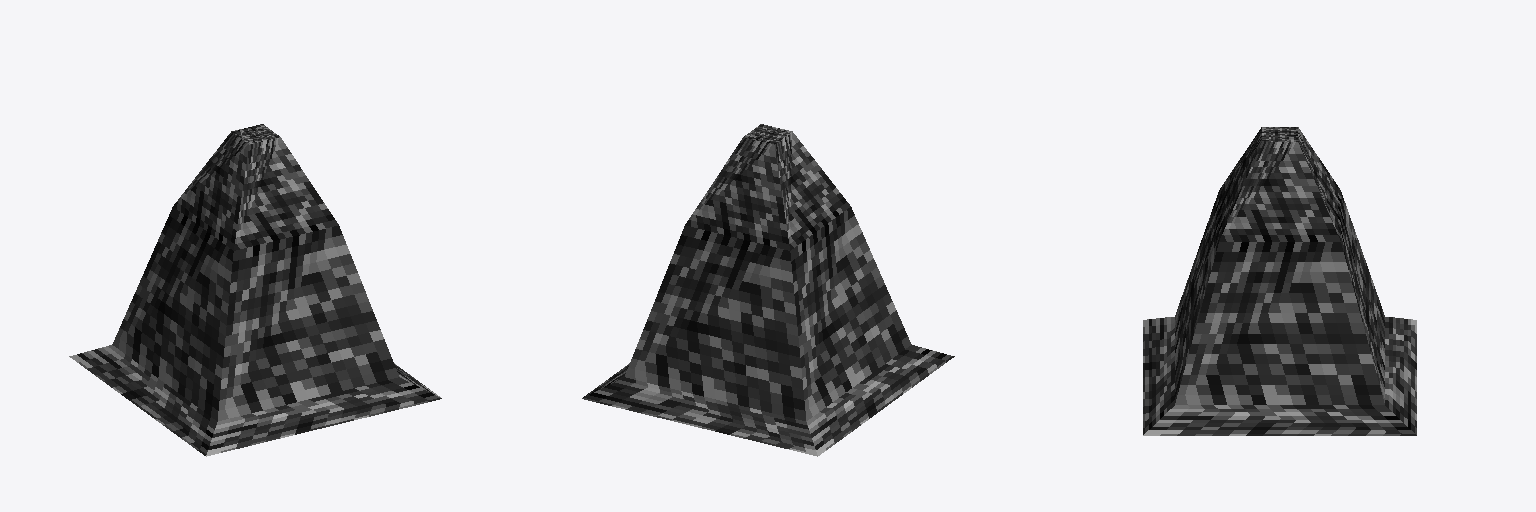
3 renders of one model, left to right at view 1: azimuth 30°, elevation 25°; view 2: azimuth 150°, elevation 25°; view 3: azimuth 270°, elevation 25°, orthographic.
Visible parts, largest first — view 1: Cube; view 2: Cube; view 3: Cube.
Boxes of the visible parts, x1=… form: Cube: x1=69, y1=124, x2=441, y2=456; Cube: x1=582, y1=124, x2=954, y2=456; Cube: x1=1143, y1=127, x2=1416, y2=435.
Size of the model in its own units: 1.66 by 1.63 by 1.66.
1 materials, 1 textured.